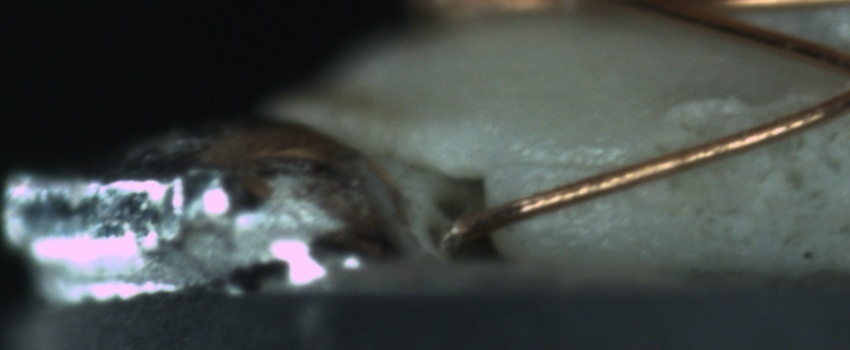DL: (508, 136, 638, 193)
